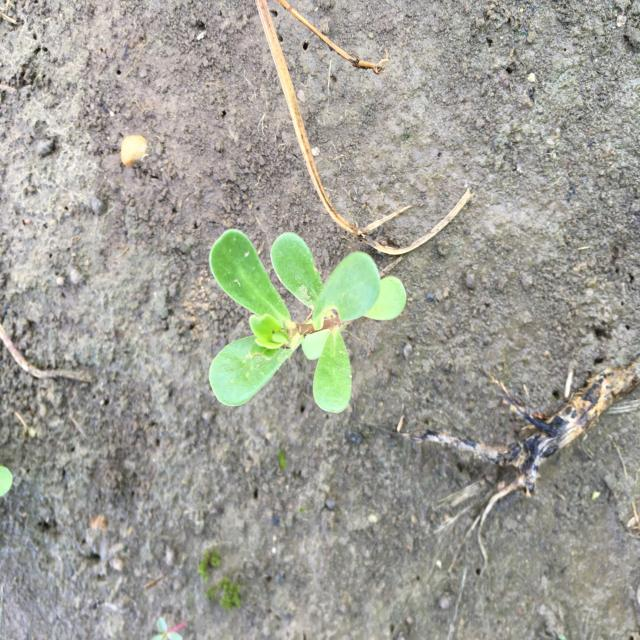Purslane: (206, 226, 409, 417)
